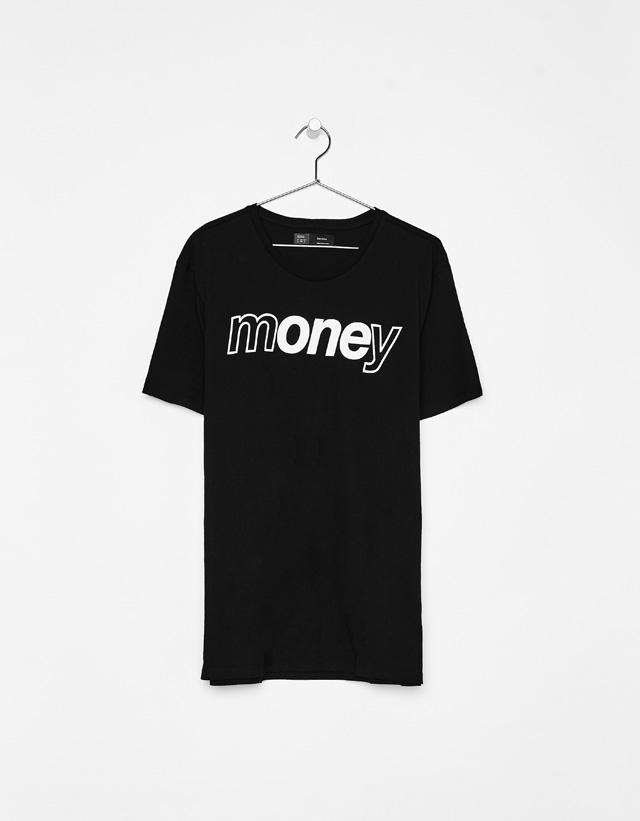teeshirt: (144, 180, 518, 730)
